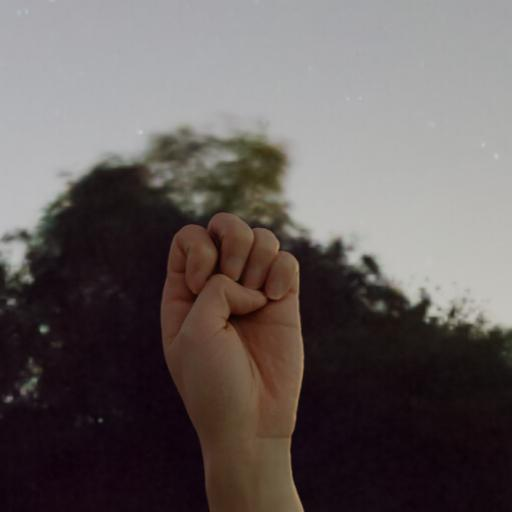E: (151, 198, 326, 447)
